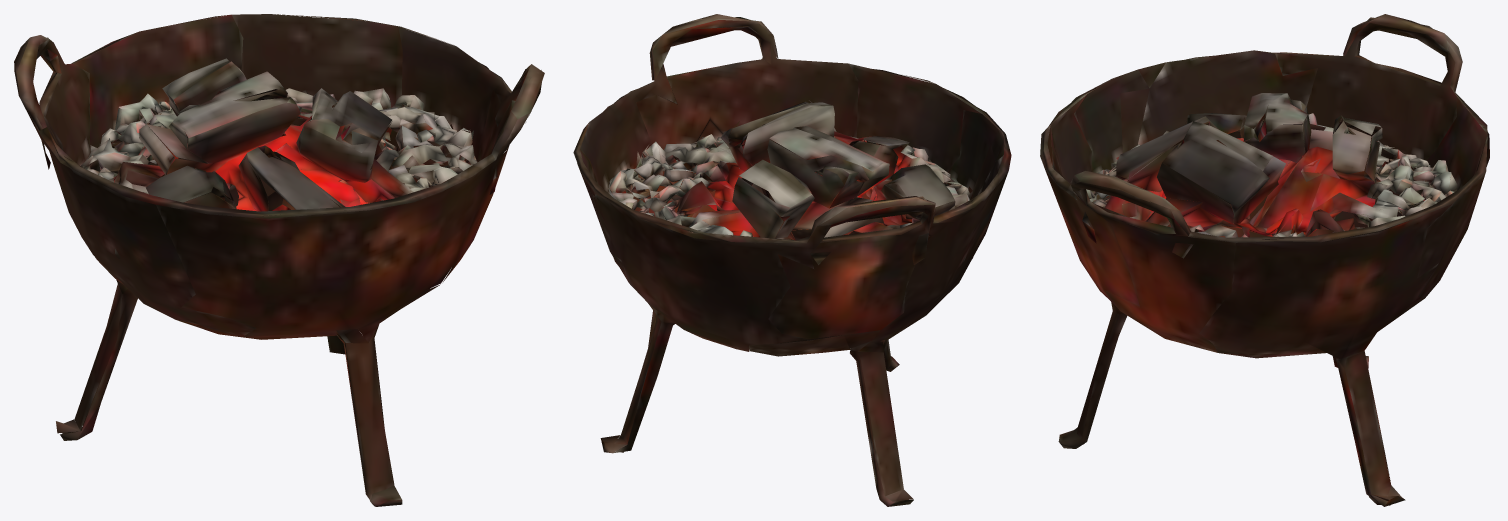
The model's file is brasero.movil.glb.
3 renders of one model, left to right at view 1: azimuth 30°, elevation 25°; view 2: azimuth 150°, elevation 25°; view 3: azimuth 270°, elevation 25°, orthographic. The views are drawn at different scales.
Parts seen in each view (by area): view 1: geometry_0; view 2: geometry_0; view 3: geometry_0.
Part boxes in pixels (bbox=[...]): geometry_0: bbox=[14, 14, 544, 506]; geometry_0: bbox=[573, 14, 1011, 506]; geometry_0: bbox=[1040, 14, 1489, 506].
Size of the model in its own units: 0.5004 by 0.4185 by 0.5013.
1 material, 1 textured.
